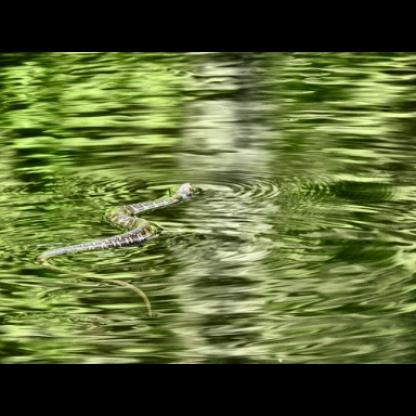Snake: (44, 172, 205, 262)
